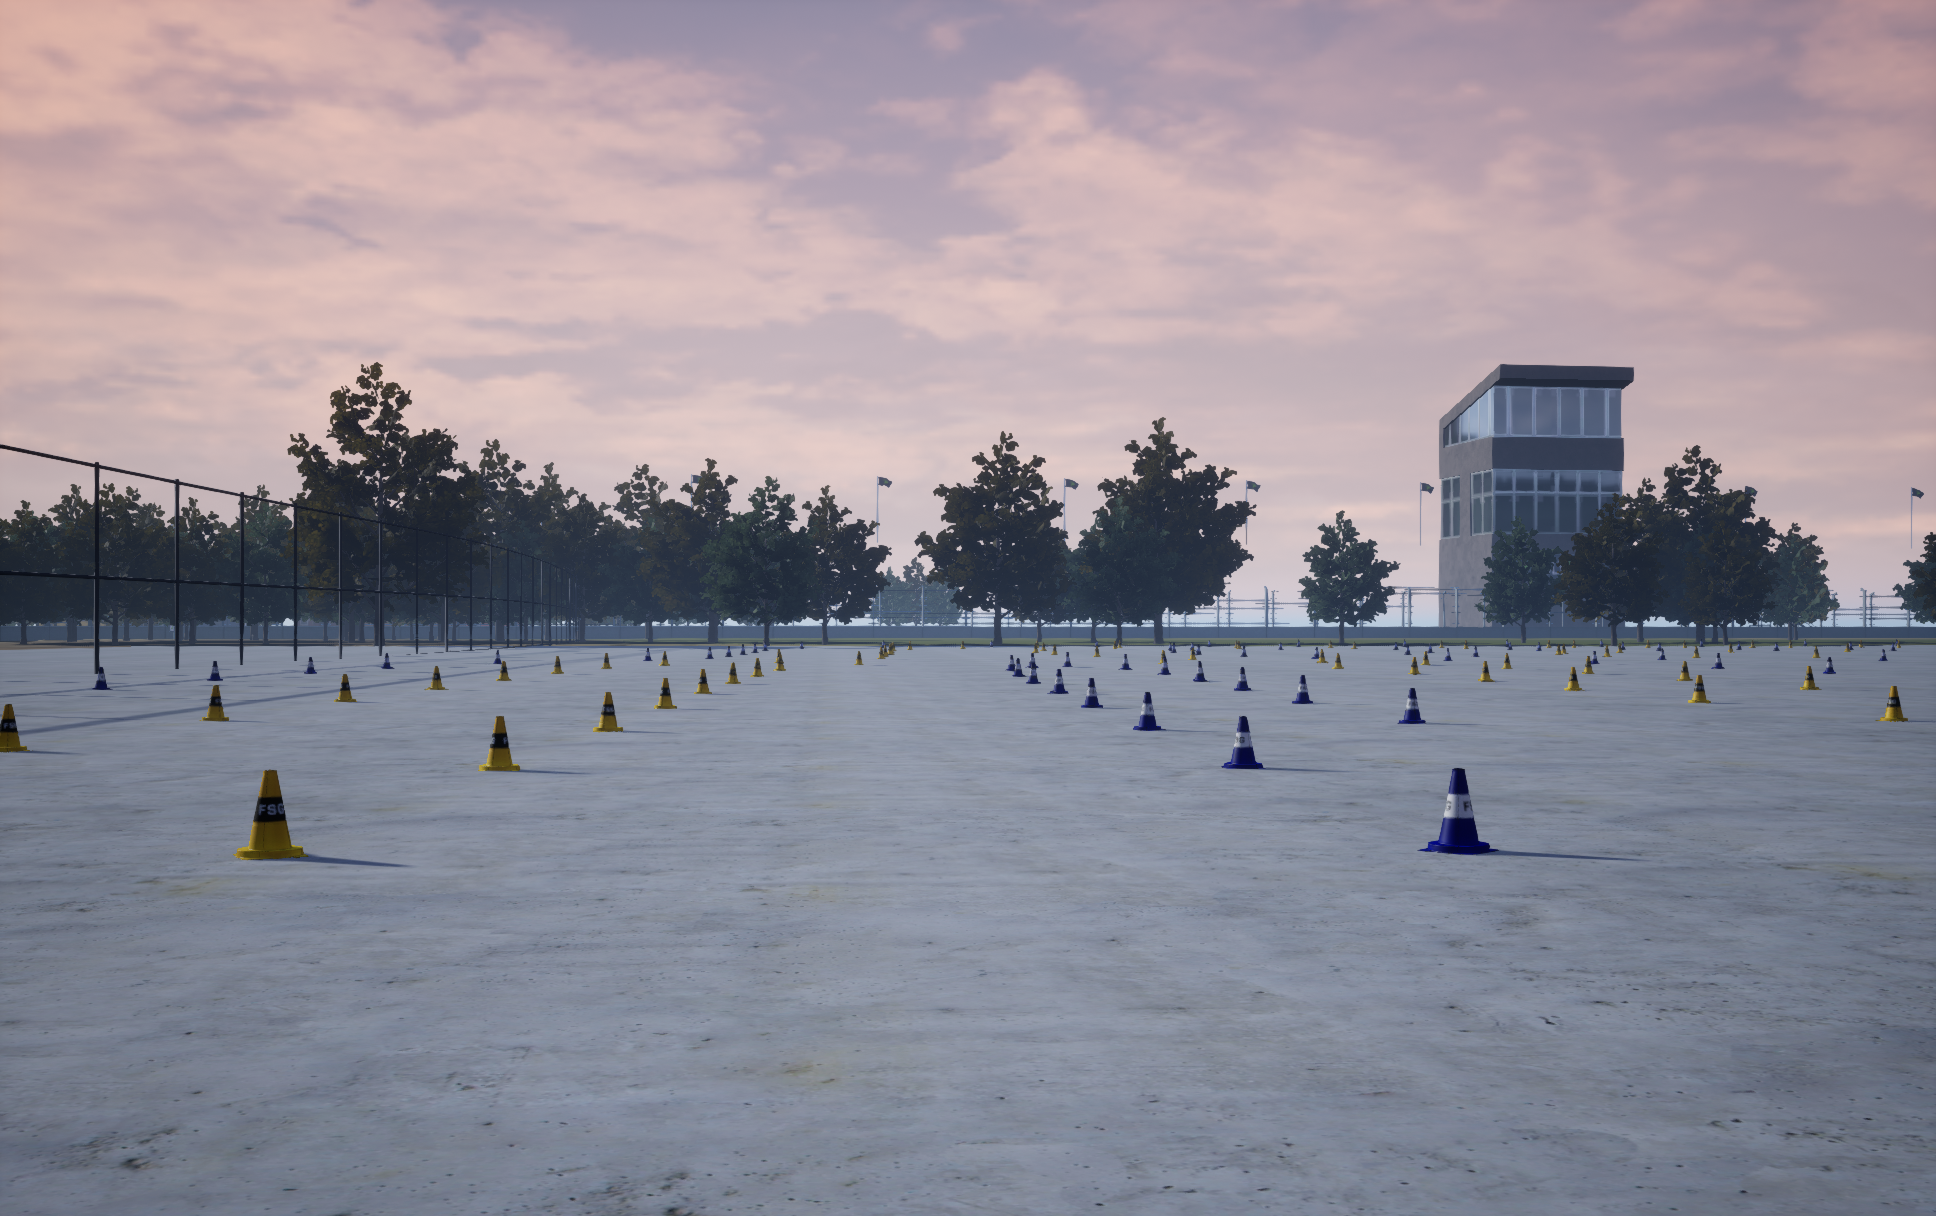blue: (233, 771, 308, 859), (478, 716, 518, 771), (0, 705, 32, 751), (593, 692, 622, 731), (1874, 686, 1907, 721), (199, 685, 228, 720), (654, 678, 677, 707), (1688, 675, 1710, 702), (333, 674, 356, 700), (424, 665, 448, 689), (1800, 665, 1821, 689), (1563, 667, 1584, 691), (693, 670, 712, 693), (1675, 661, 1692, 679), (1478, 661, 1493, 681), (726, 663, 740, 684), (496, 661, 511, 679), (749, 658, 763, 677)
yellow: (1418, 768, 1498, 855), (1222, 716, 1265, 768), (1133, 692, 1166, 730), (1397, 688, 1425, 723), (1081, 678, 1102, 707), (1292, 675, 1313, 703), (1046, 670, 1067, 693), (92, 667, 112, 689), (1234, 667, 1251, 691), (1025, 663, 1039, 684), (1194, 661, 1208, 681), (207, 661, 221, 679), (1011, 658, 1025, 677)
